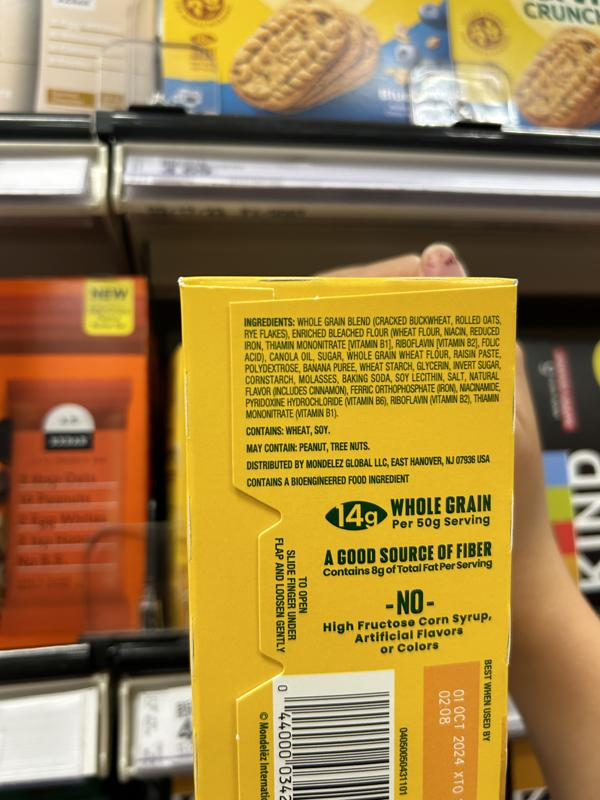ingredients: (242, 314, 502, 420)
